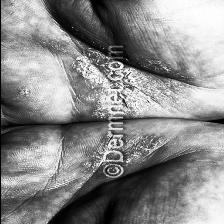Non-Cancerous Skin Condition: (129, 60, 203, 162), (14, 39, 94, 127), (71, 146, 103, 192)
